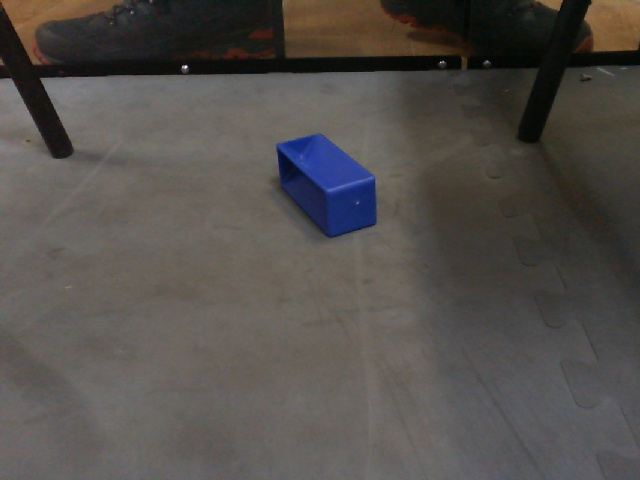BlueSample: (270, 128, 384, 246)
